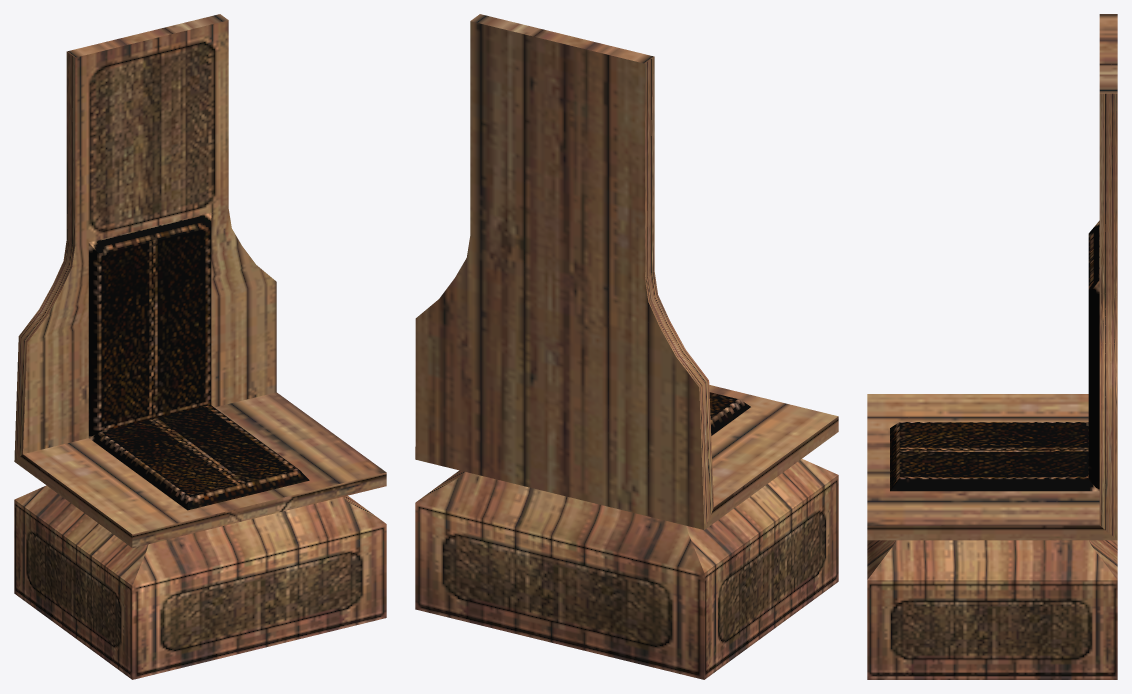
File: frn_all_eleg_chair_s02_l0.fbx
3 views of the same model, side by side, from view 1: azimuth 30°, elevation 25°; view 2: azimuth 150°, elevation 25°; view 3: azimuth 270°, elevation 25° (orthographic). The views are drawn at different scales.
Parts seen in each view (by area): view 1: mesh_node; view 2: mesh_node; view 3: mesh_node.
Boxes of the visible parts, x1=… form: mesh_node: x1=14, y1=14, x2=386, y2=679; mesh_node: x1=415, y1=14, x2=838, y2=679; mesh_node: x1=867, y1=14, x2=1117, y2=679.
Size of the model in its own units: 0.6884 by 1.37 by 0.554.
Materials: 1 (1 with a texture image).
